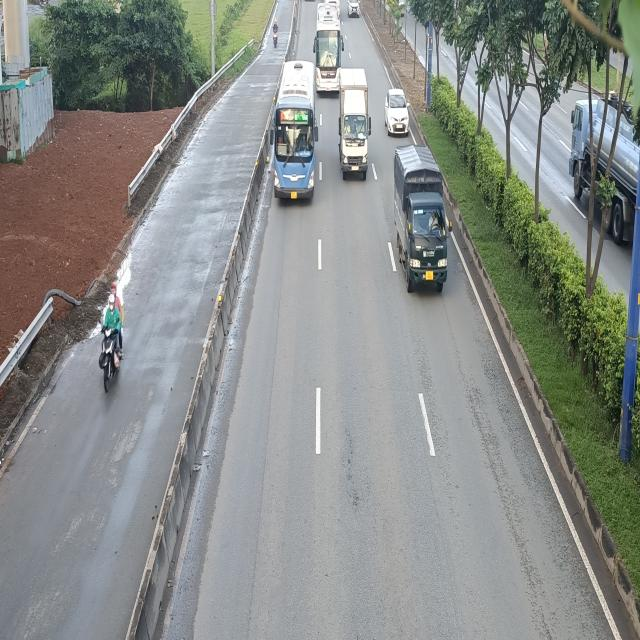car: (384, 88, 409, 136)
coach: (268, 61, 320, 204), (314, 3, 344, 97)
truck: (395, 144, 454, 296), (338, 70, 371, 182)
